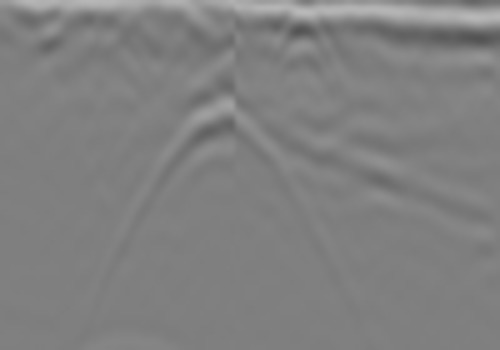hyperbola: (100, 98, 337, 313)
